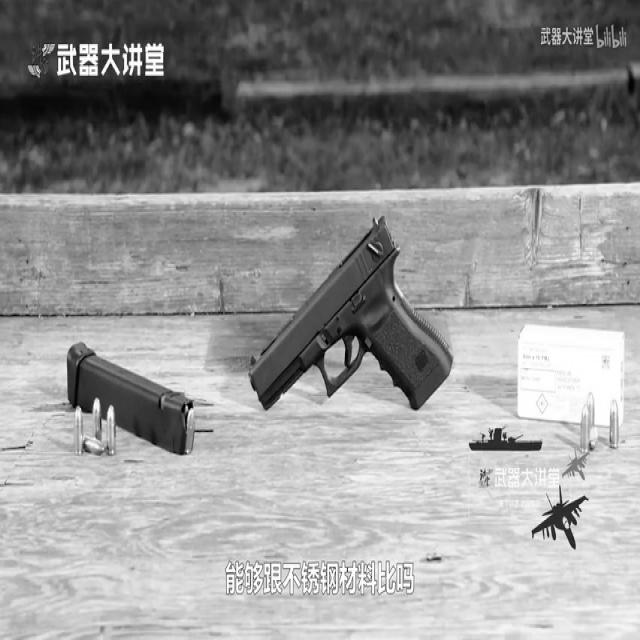Hand-Gun: (215, 167, 461, 534)
